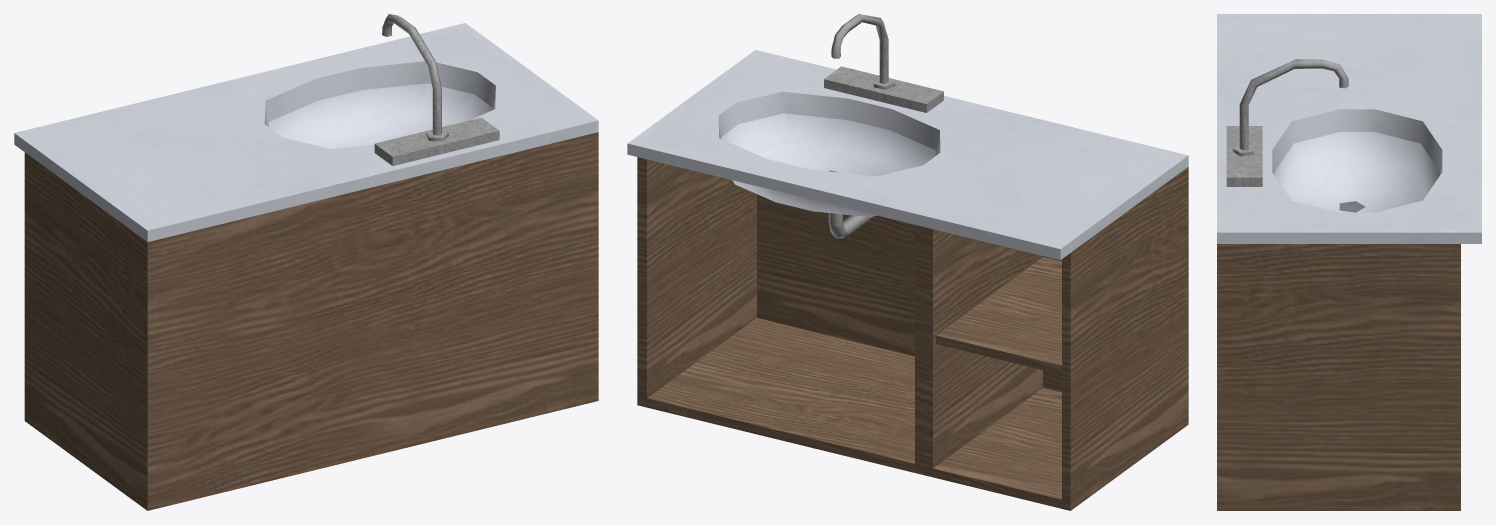
Rendered from Washbasin_07.glb.
3 renders of one model, left to right at view 1: azimuth 30°, elevation 25°; view 2: azimuth 150°, elevation 25°; view 3: azimuth 270°, elevation 25°, orthographic. The views are drawn at different scales.
Visible parts, largest first — view 1: Washbasin_07; view 2: Washbasin_07; view 3: Washbasin_07.
Part boxes in pixels (bbox=[...]): Washbasin_07: bbox=[14, 14, 598, 510]; Washbasin_07: bbox=[627, 14, 1188, 510]; Washbasin_07: bbox=[1217, 14, 1481, 510].
Size of the model in its own units: 1.09 by 0.8843 by 0.5587.
4 materials, 4 textured.
